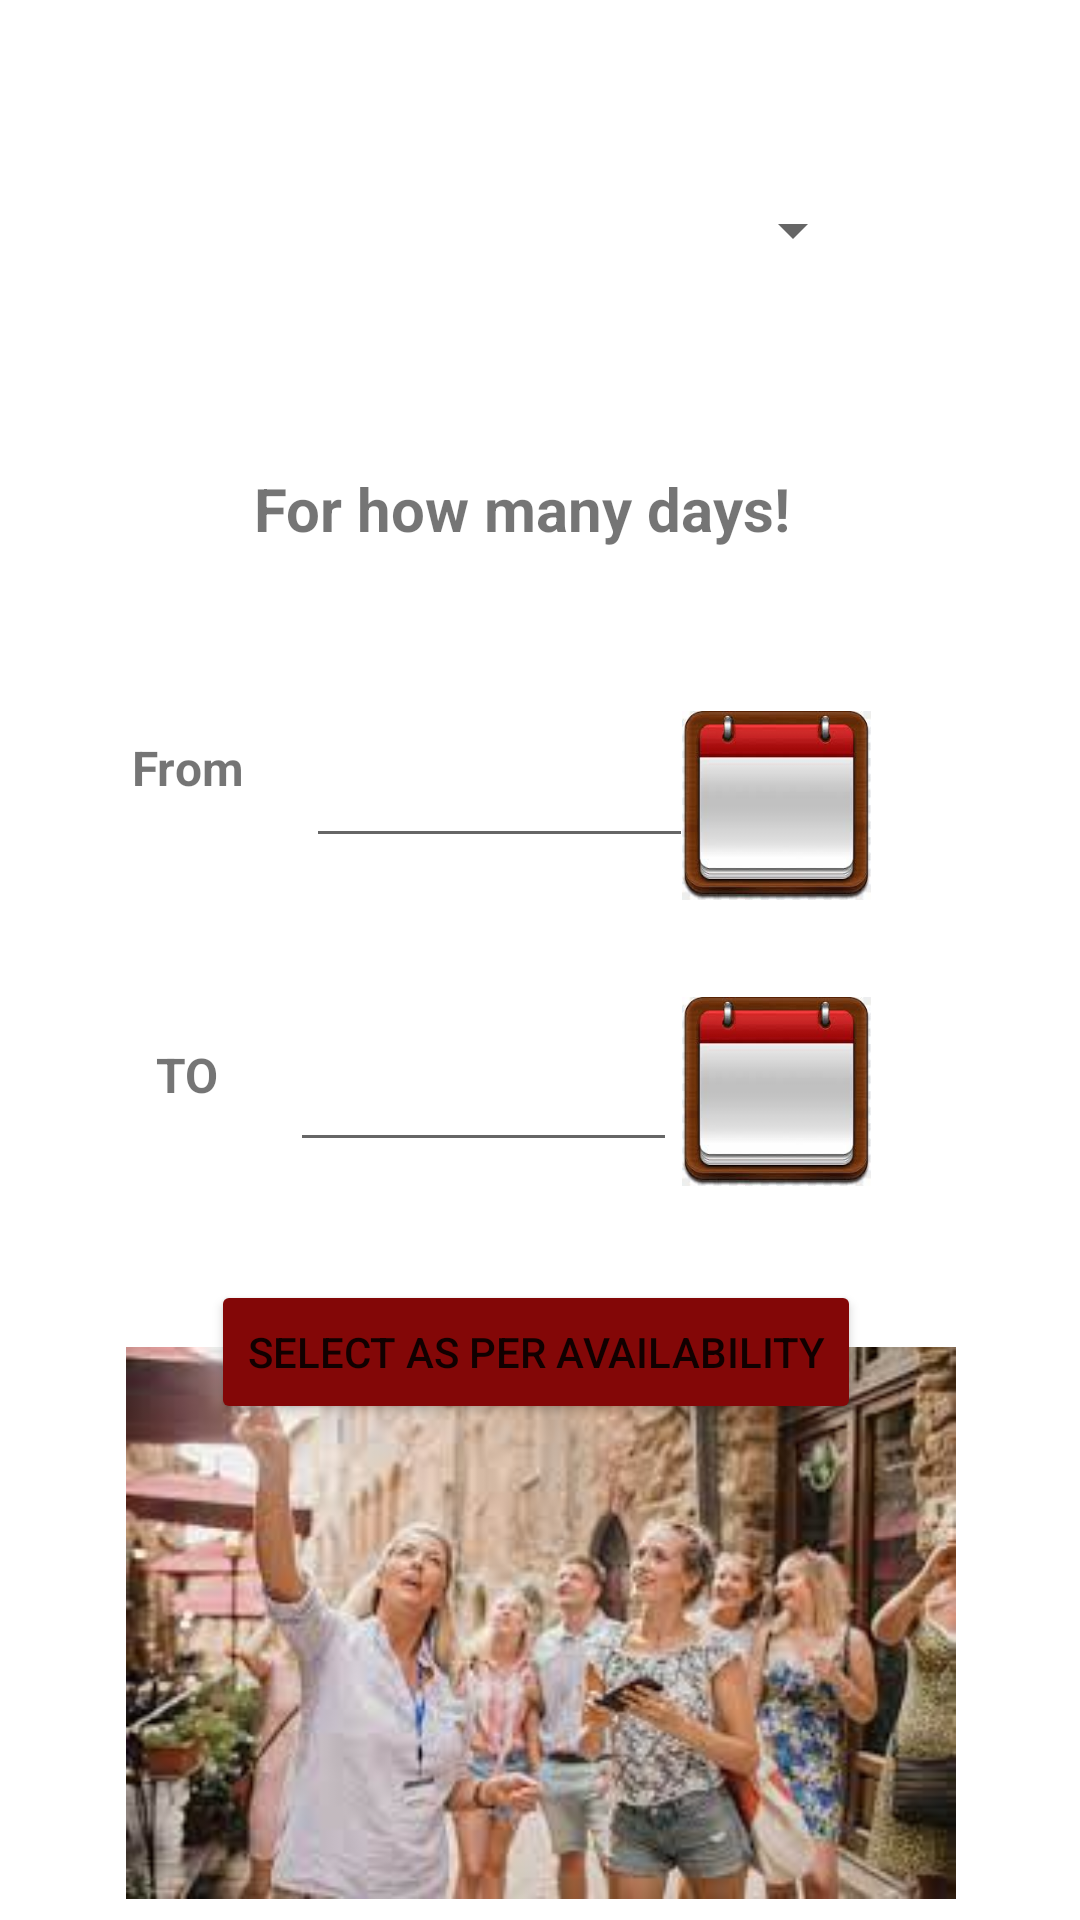

Screen size 1080w x 1920h. Icon name, then its center in pixels as (x=x, y=y):
cald: (x=776, y=805), (x=776, y=1091)
